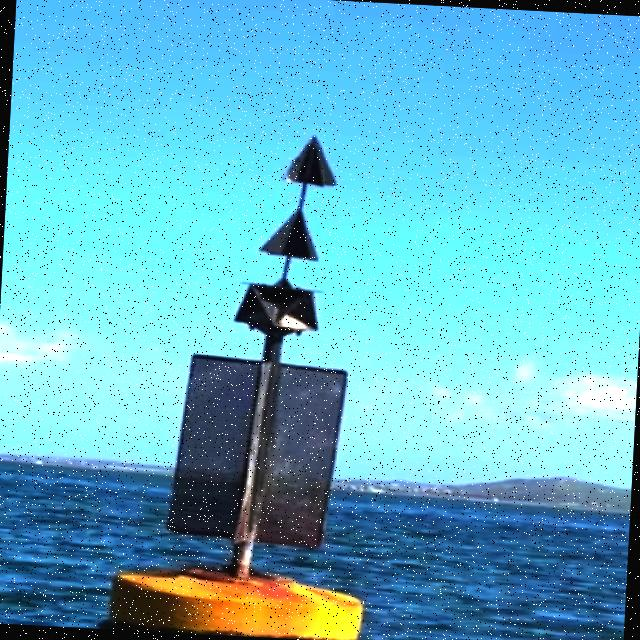marque: (119, 121, 383, 640)
